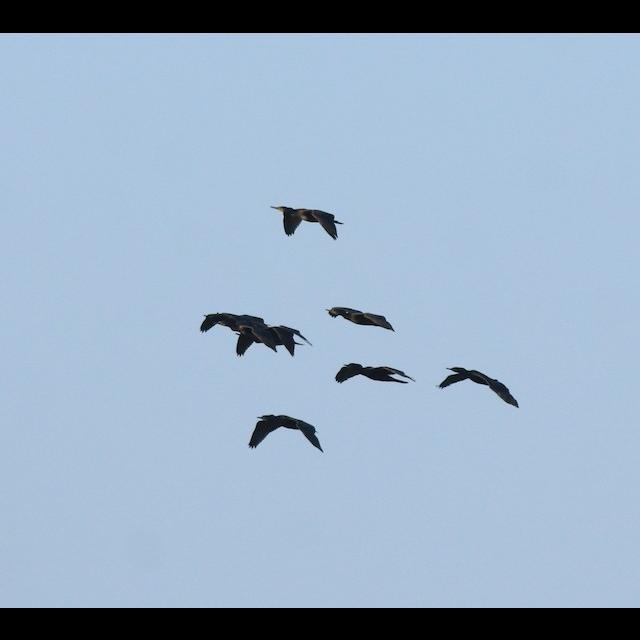cormorant: (432, 361, 526, 412), (247, 406, 325, 459), (265, 200, 347, 242), (324, 303, 402, 335), (335, 359, 417, 388)
